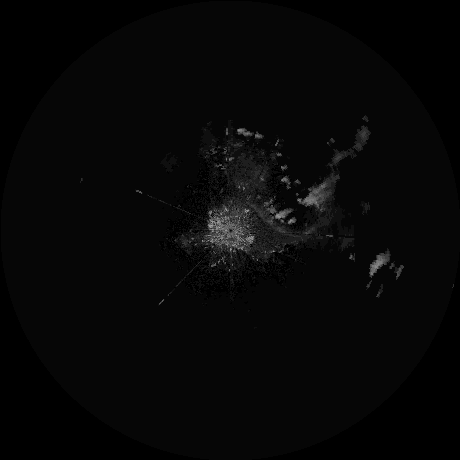frontgust: (248, 203, 300, 237)
